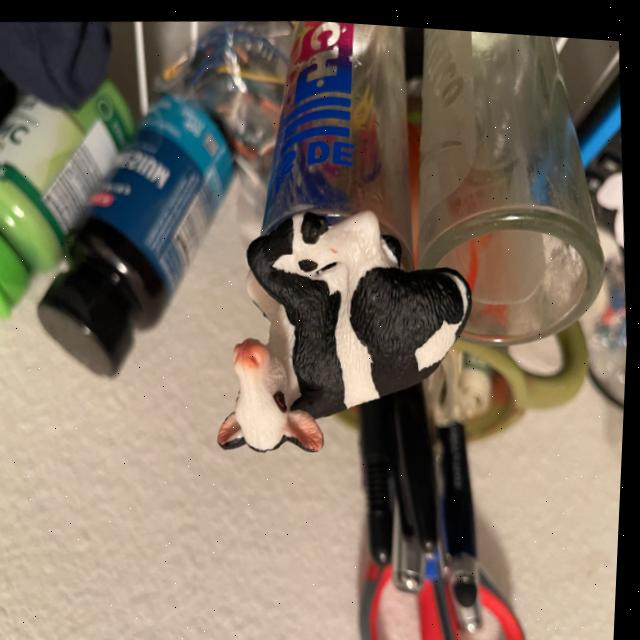cow: (220, 193, 481, 468)
